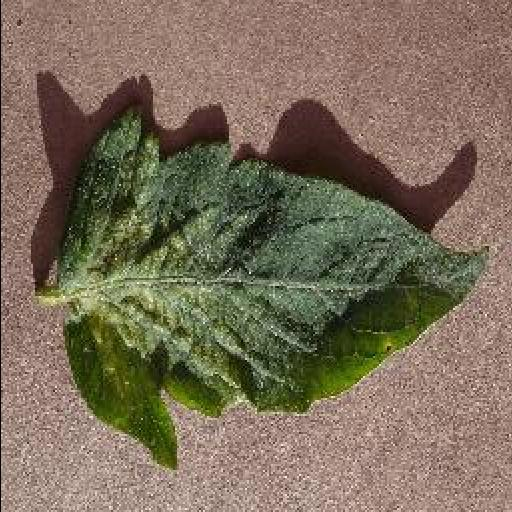disease_tomato: (52, 110, 492, 472)
